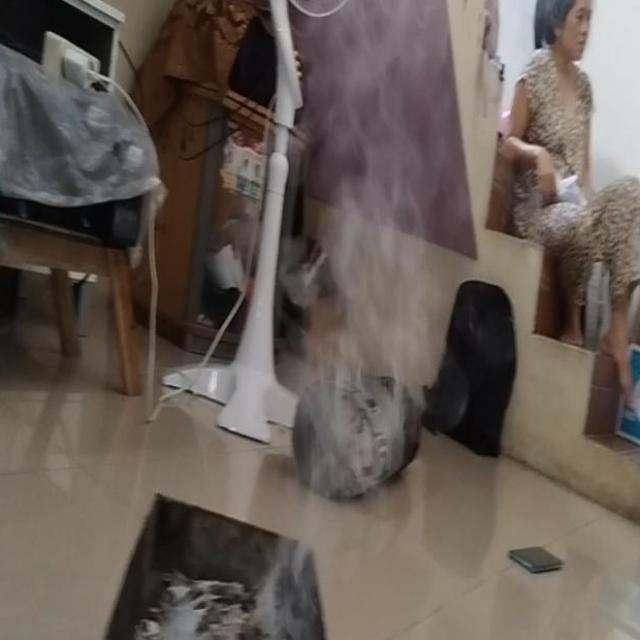fire: (315, 0, 441, 409)
